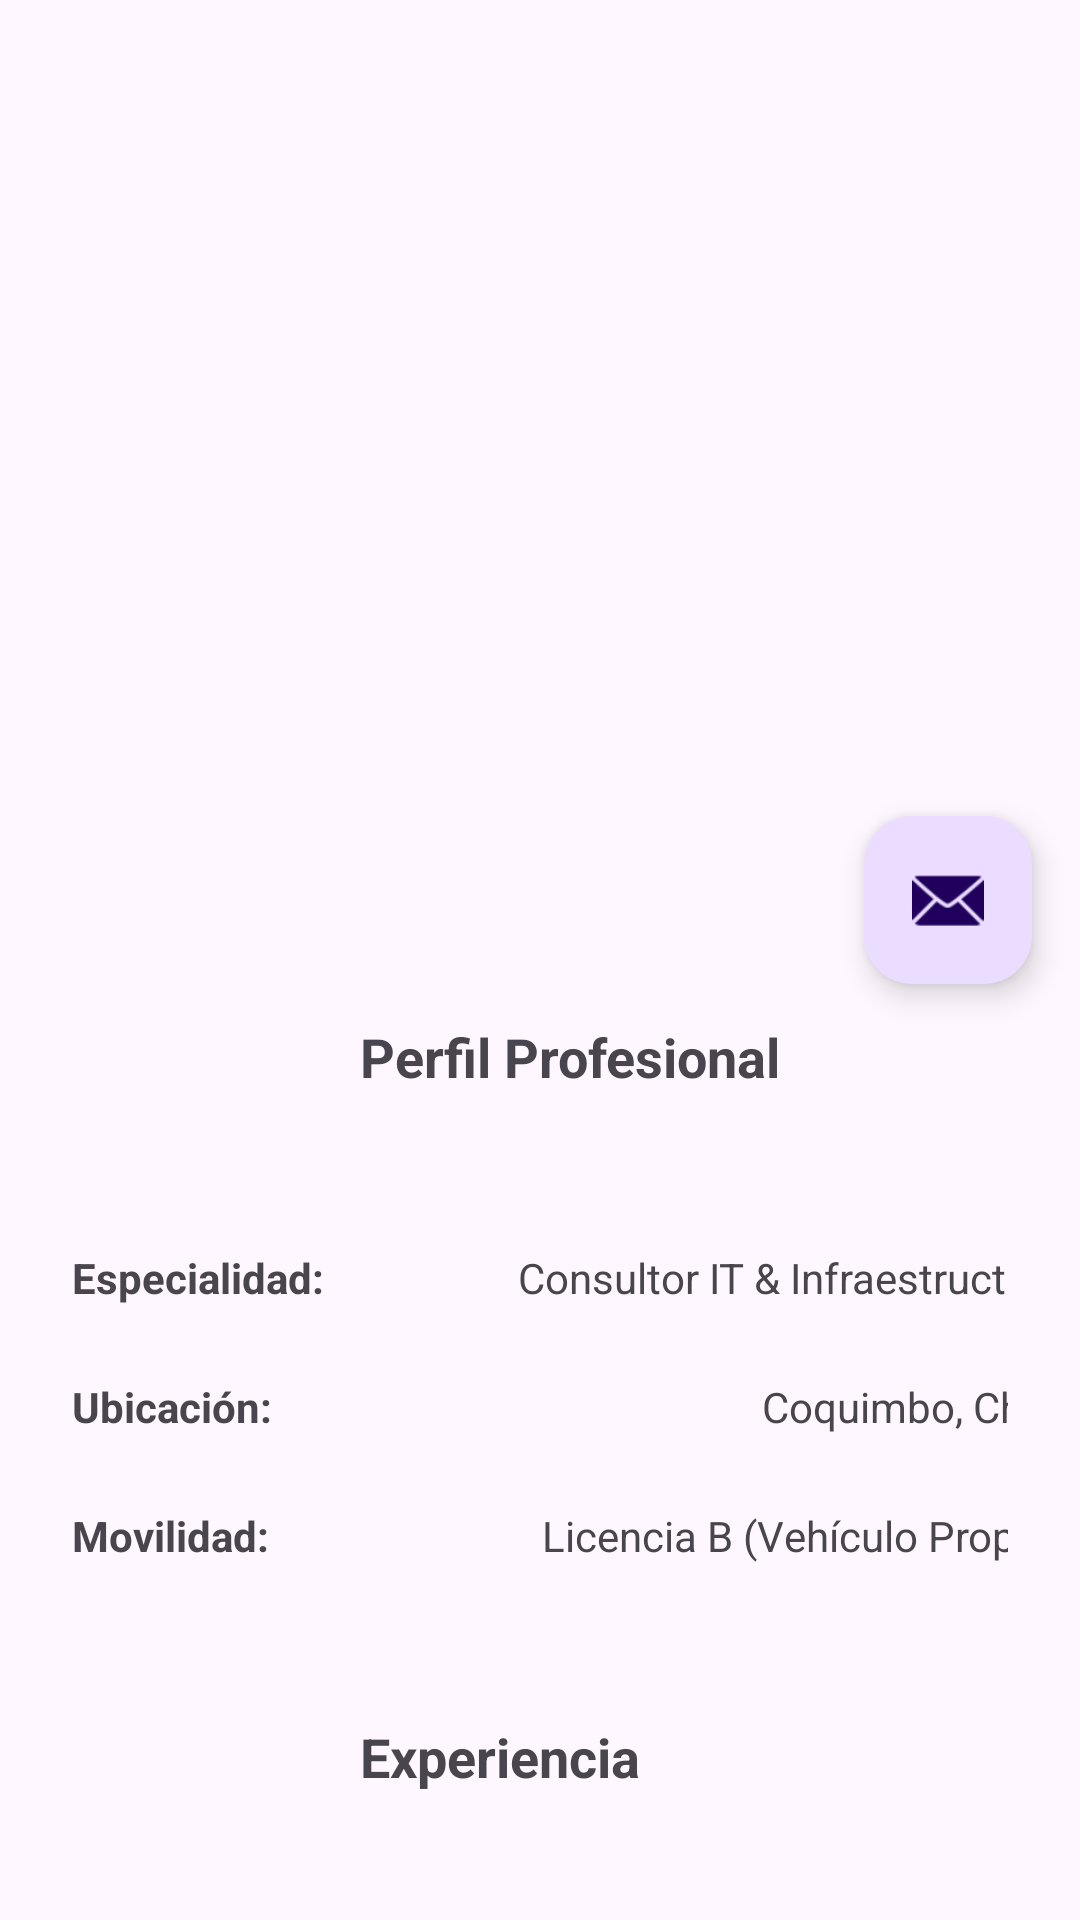

Screen size 1080 × 1920. Icon name, then its center in pixels as point (x, y):
email: point (948, 900)
